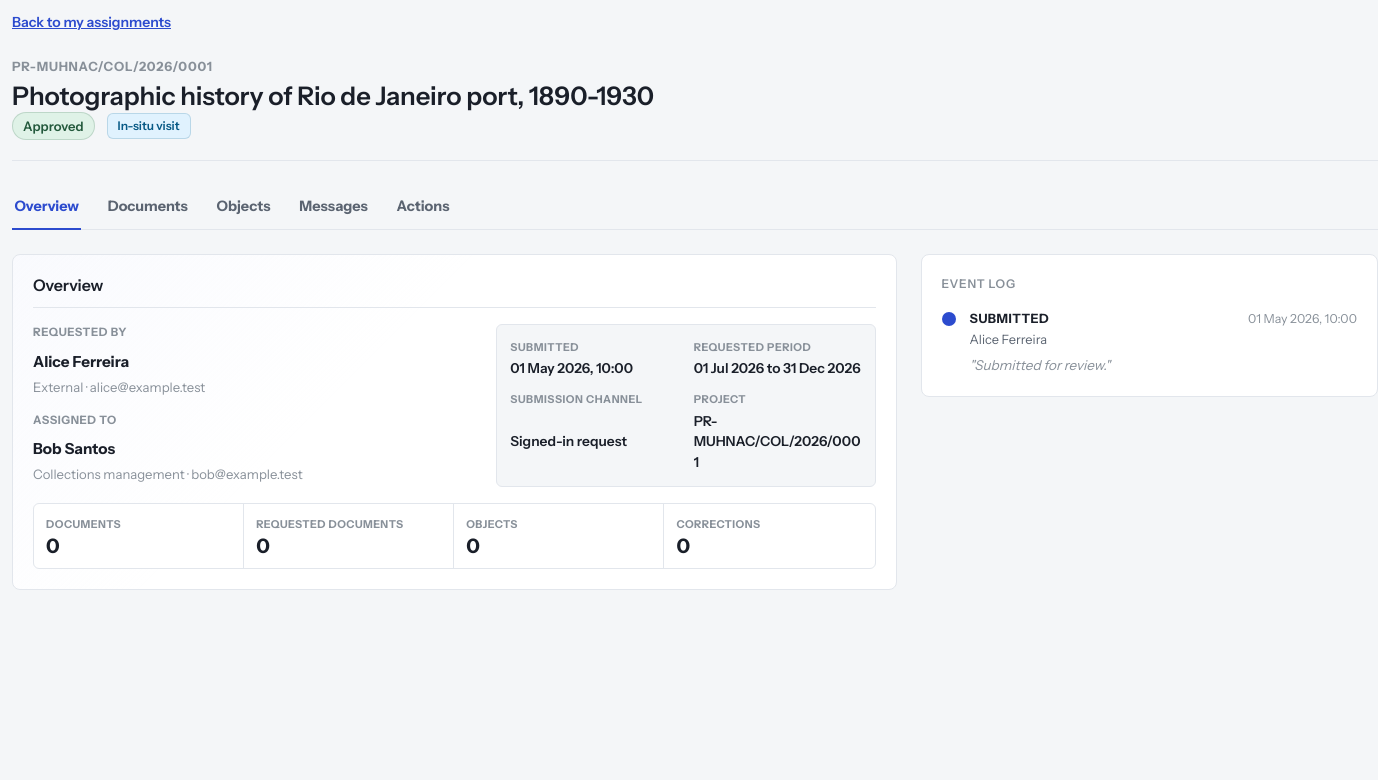
Scenario: ProposalMyDetailPageComponent › hides the Edit action when the proposal has a terminal status
Click the tab "Actions".
click(423, 207)  # box [394,185,452,230]
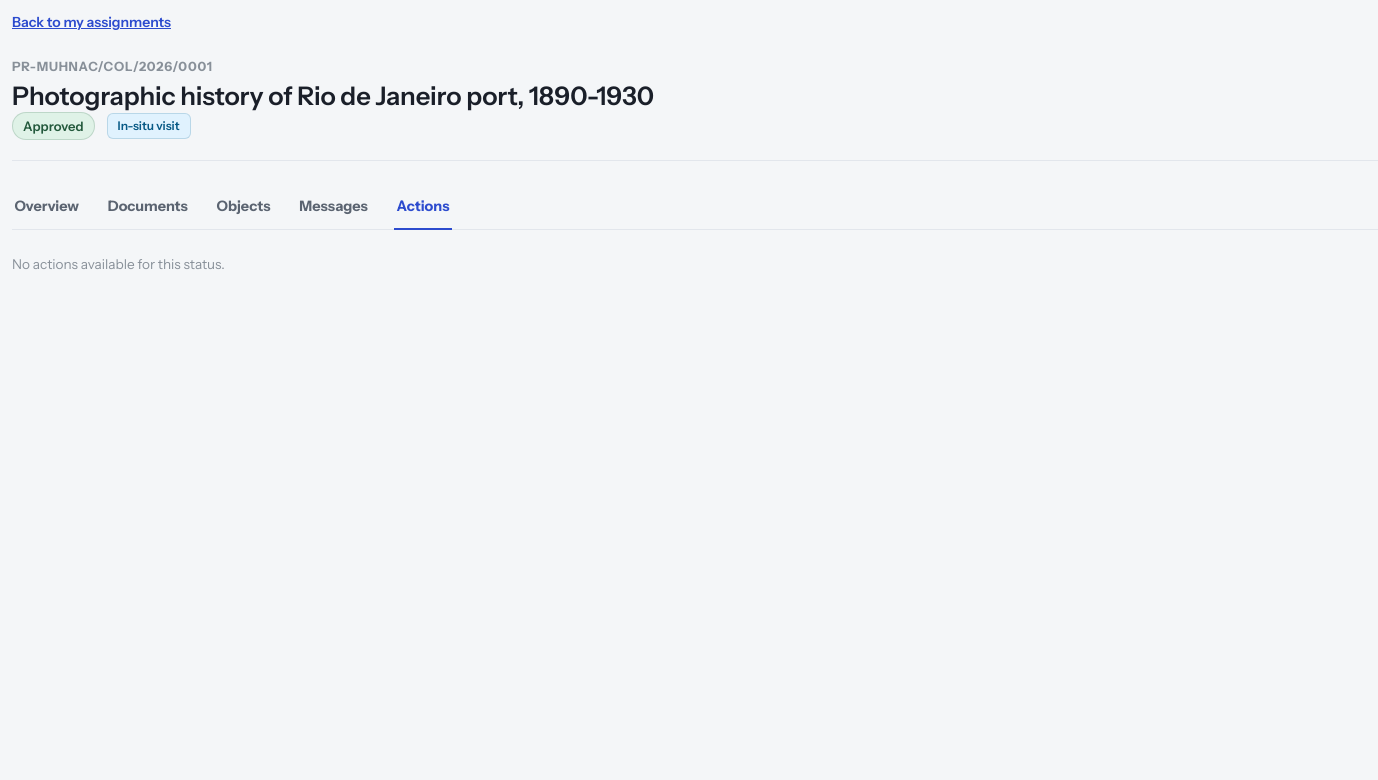
Result: the text "No actions available for this status." is shown at [12,256,225,272]
